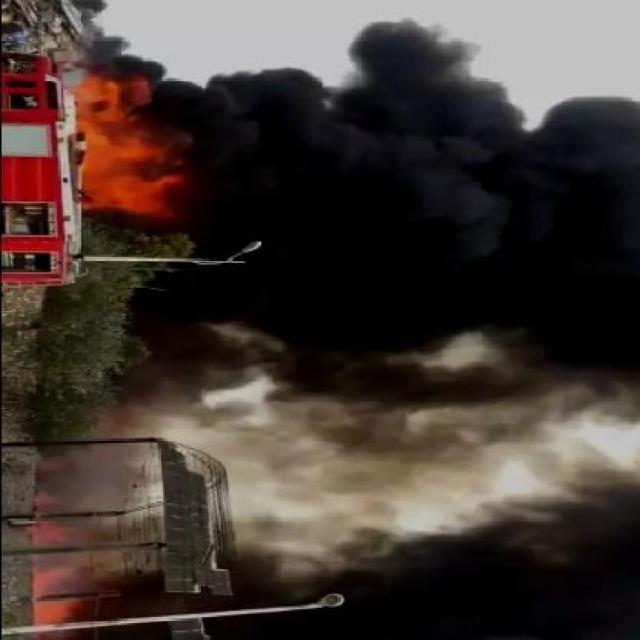Fire: (64, 62, 194, 225), (28, 504, 88, 632)
Smoke: (194, 17, 640, 640)
